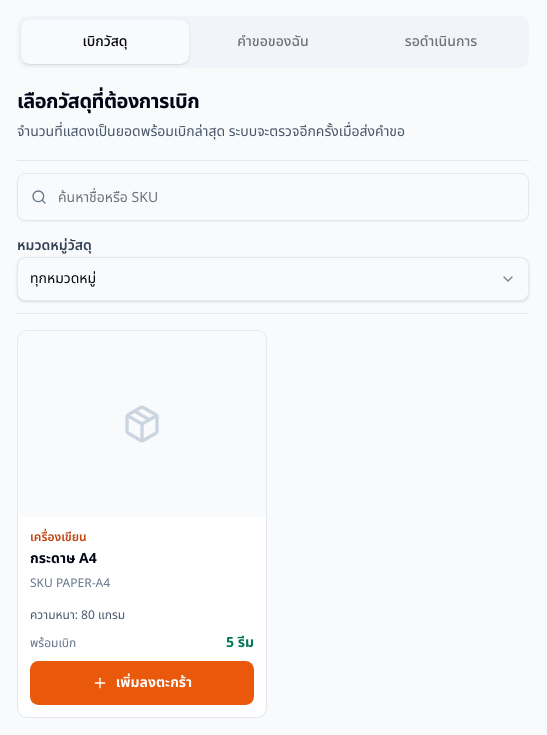
LIFF Stock app orchestration › keeps employee workflows usable when only the processor queue fails
Check: the heading "กระดาษ A4" is shown, box [30,548,97,569]
Press the mouse on the tab "รอดำเนินการ" at (441, 42), box [357,20,525,64]
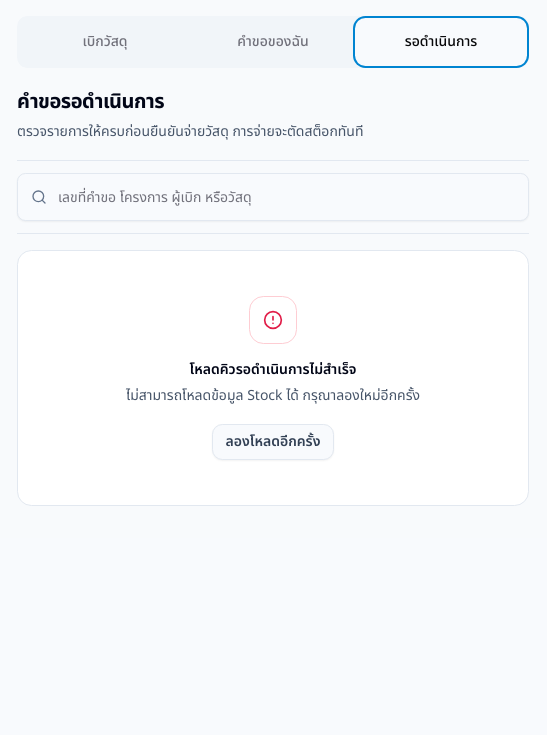
Check: the heading "โหลดคิวรอดำเนินการไม่สำเร็จ" is shown, box [190,360,356,380]
Press the mouse on the tab "เบิกวัสดุ" at (105, 42), box [21,20,189,64]
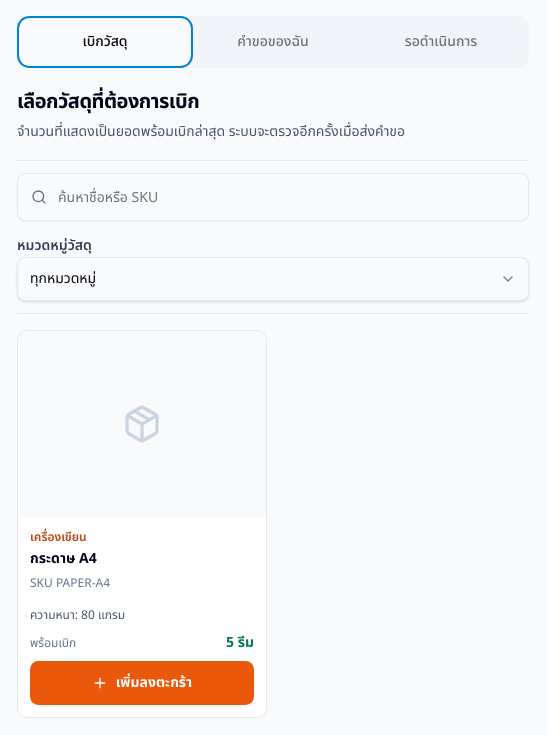
Check: the heading "เลือกวัสดุที่ต้องการเบิก" is shown, box [17,87,199,117]
